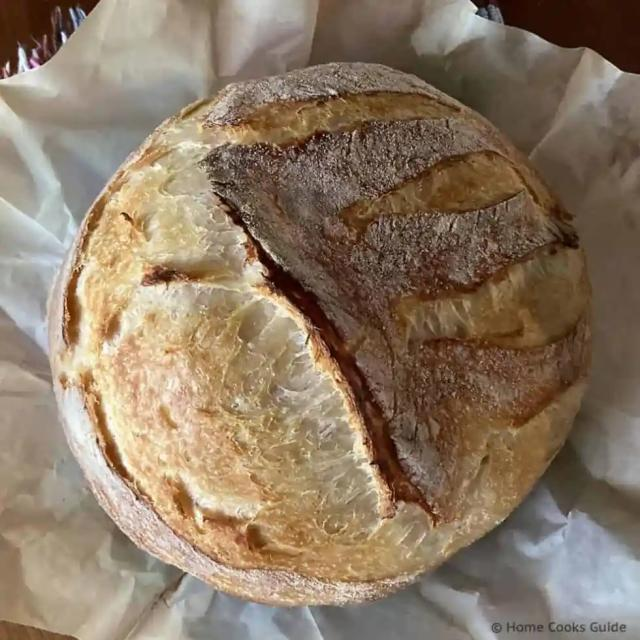Maltese-Bread: (50, 64, 590, 604)
